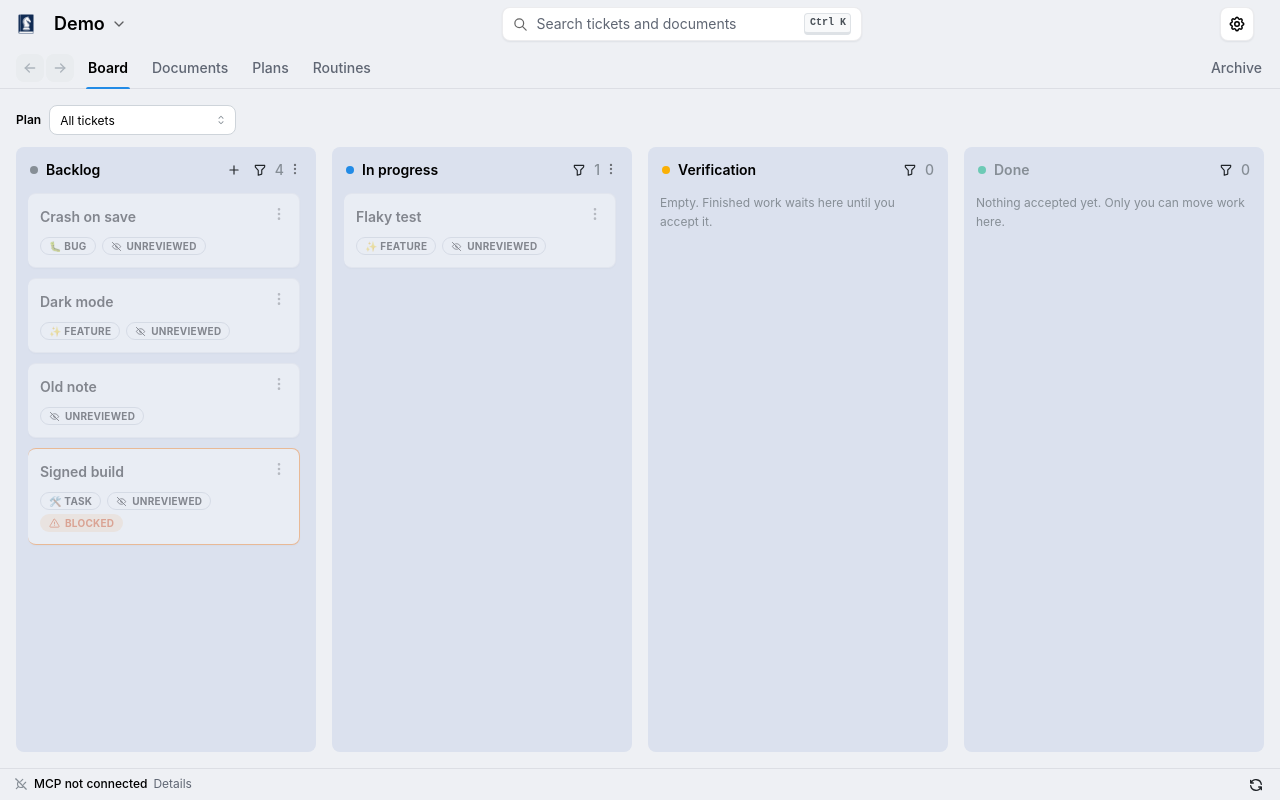
a column filter › offers every type, untyped, conditions and review state
Click the button named "Filter the Backlog". click: (260, 170)
box: [249,159,271,181]
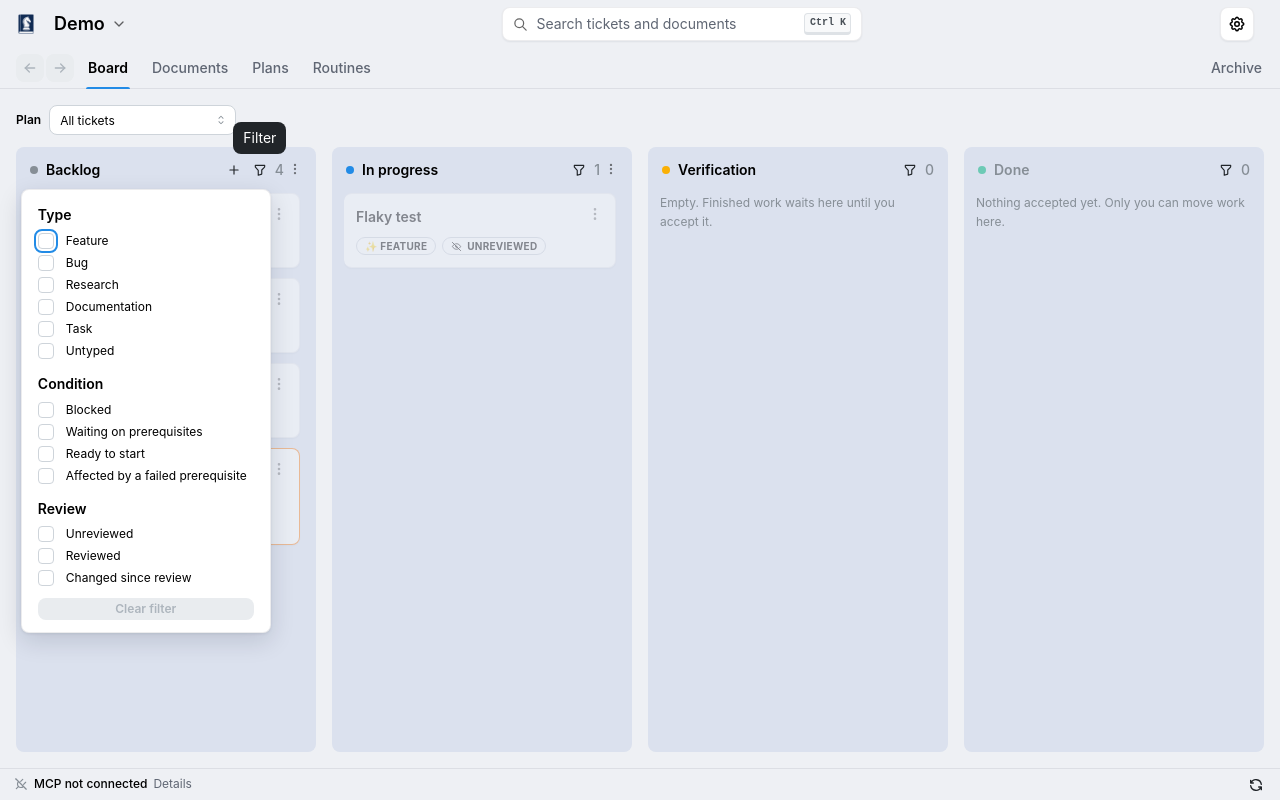
expect the checkbox labelled "Feature" is shown: met, box [38,233,54,249]
expect the checkbox labelled "Bug" is shown: met, box [38,255,54,271]
expect the checkbox labelled "Research" is shown: met, box [38,277,54,293]
